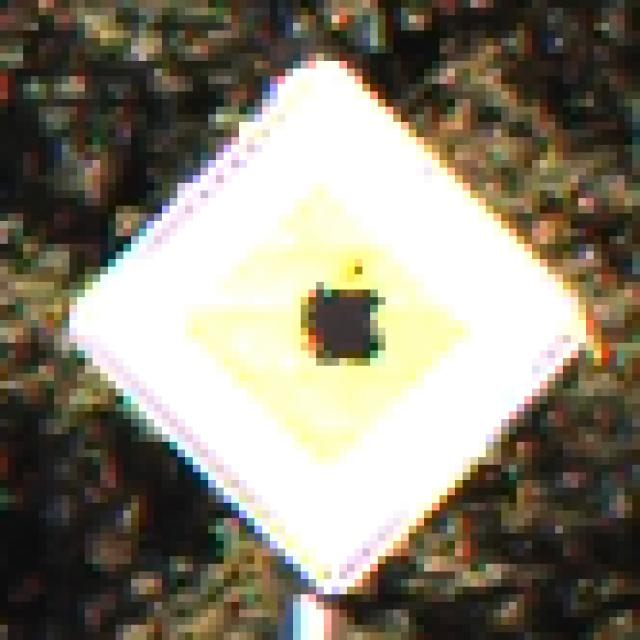Main Road: (63, 54, 587, 588)
